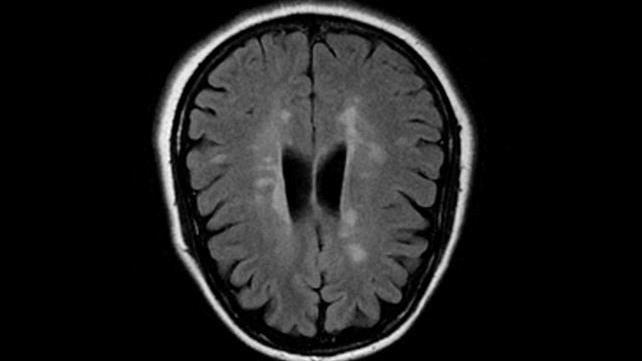Normal_Brain: (4, 3, 642, 350)
